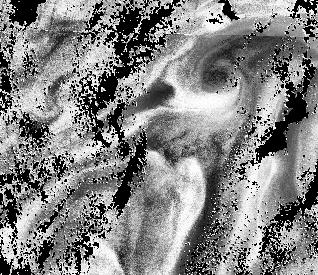CE: (182, 51, 250, 109)
